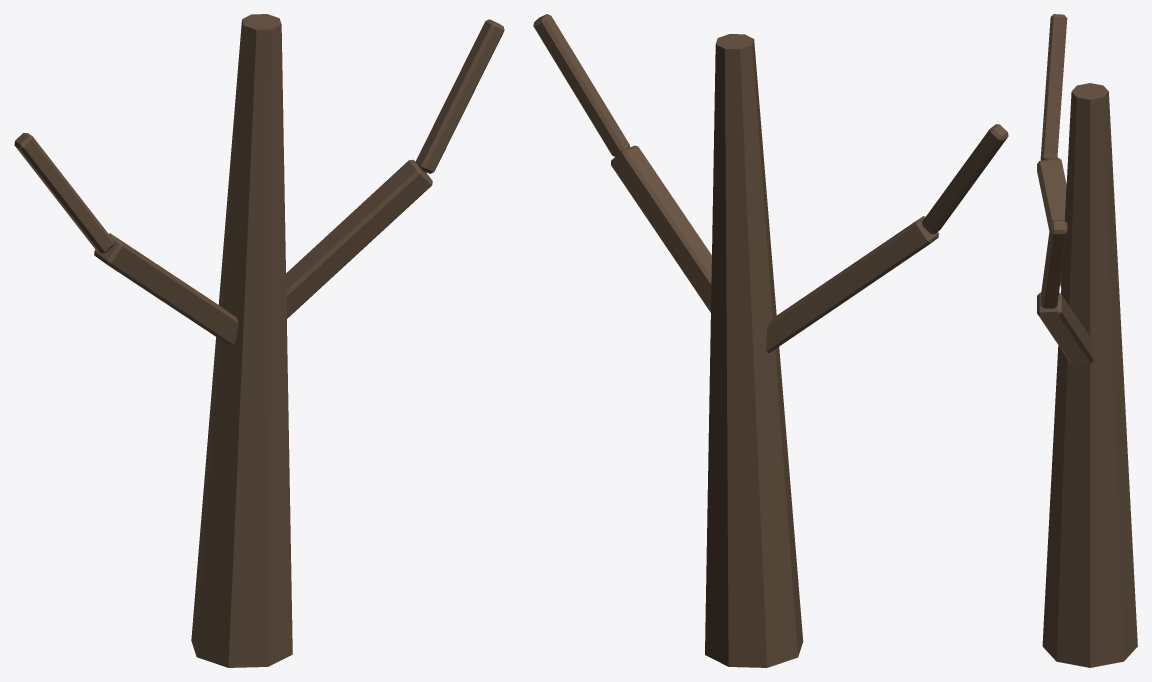
Rendered from nature-dead-tree.lod0.glb.
3 views of the same model, side by side, from view 1: azimuth 30°, elevation 25°; view 2: azimuth 150°, elevation 25°; view 3: azimuth 270°, elevation 25° (orthographic). The views are drawn at different scales.
Parts seen in each view (by area): view 1: nature-dead-tree__body; view 2: nature-dead-tree__body; view 3: nature-dead-tree__body.
Part boxes in pixels (bbox=[...]): nature-dead-tree__body: bbox=[14, 14, 504, 667]; nature-dead-tree__body: bbox=[533, 14, 1008, 667]; nature-dead-tree__body: bbox=[1037, 14, 1137, 667].
Bounding box in the file's own units: 2.45 × 3.01 × 0.4862.
